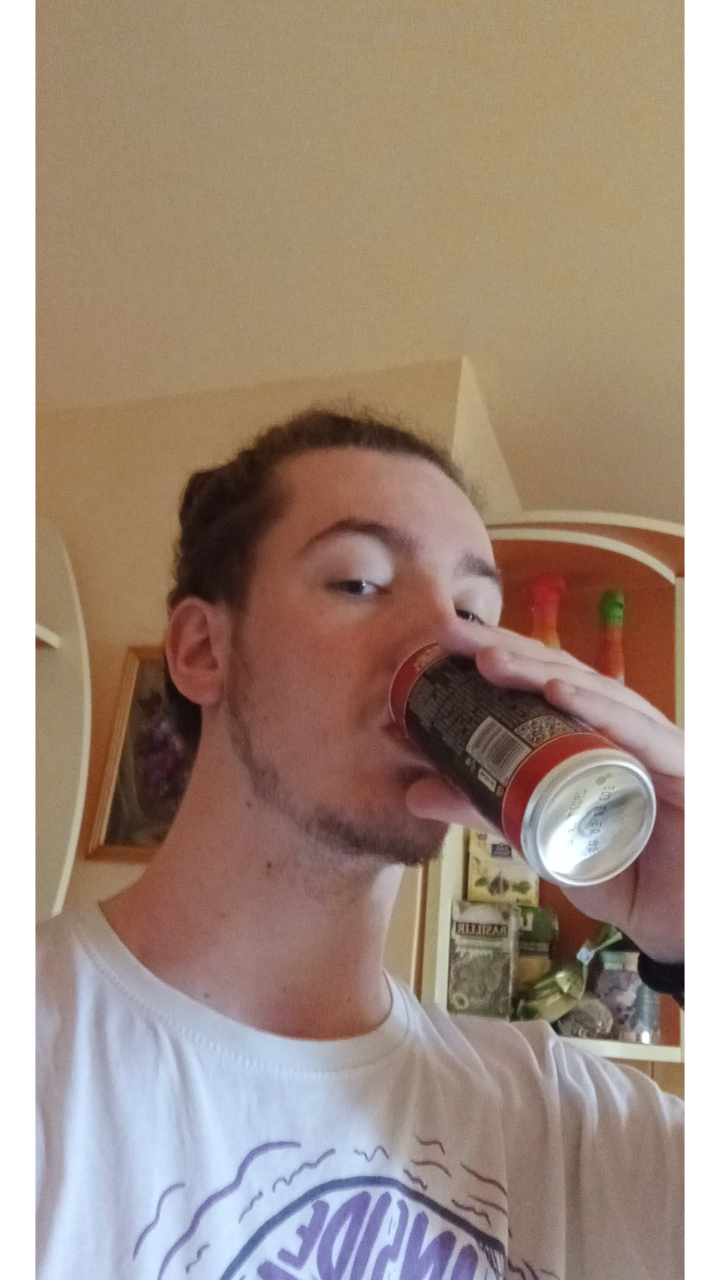Can: (388, 627, 657, 889)
